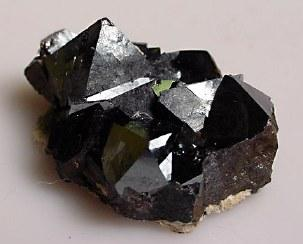magnetite: (25, 18, 279, 232)
